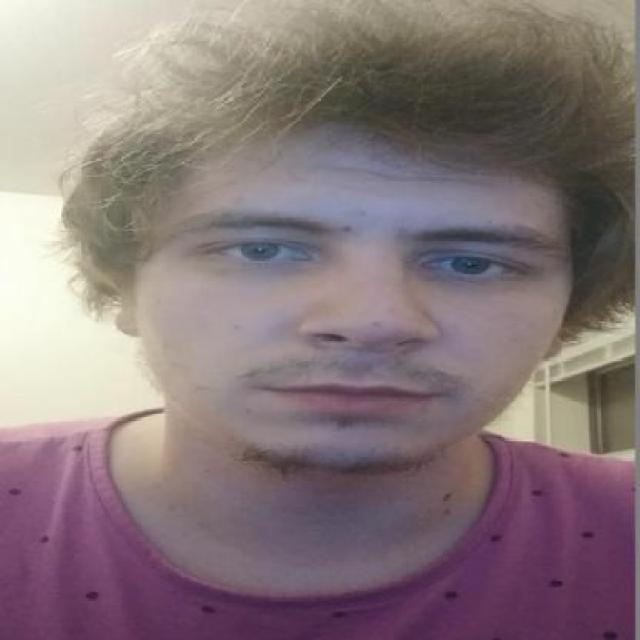awake: (422, 246, 528, 283), (208, 236, 315, 266)
